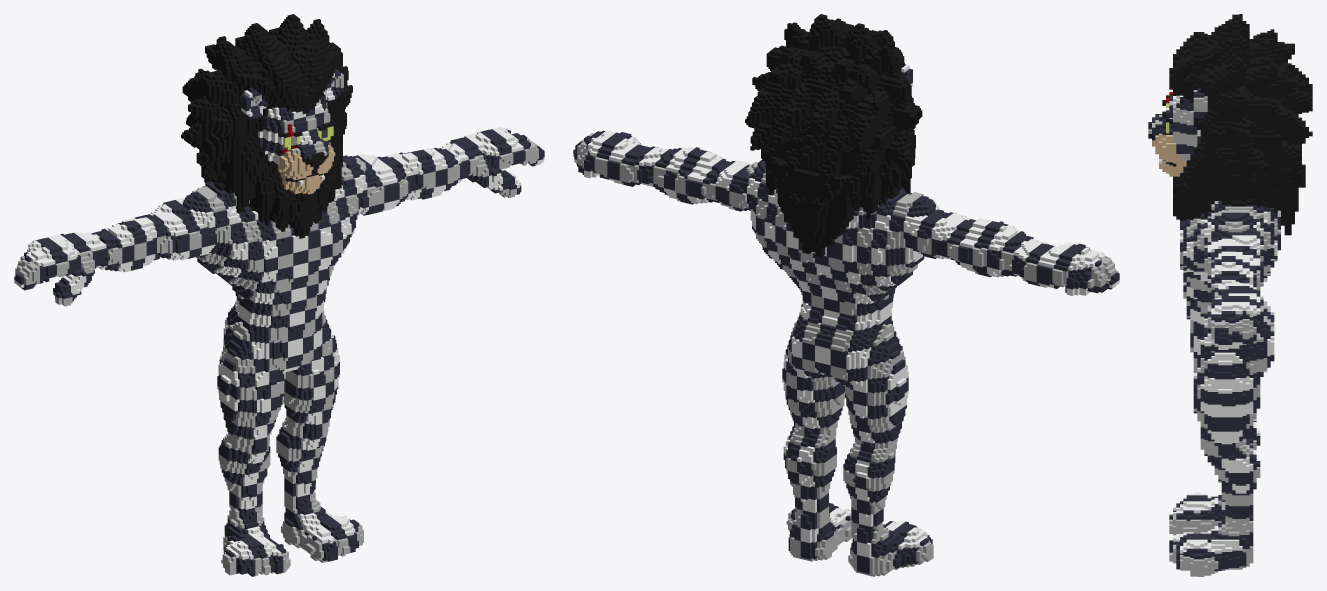
The picture shows the model from 3 angles, left to right: view 1: azimuth 30°, elevation 25°; view 2: azimuth 150°, elevation 25°; view 3: azimuth 270°, elevation 25°; orthographic projection. The views are drawn at different scales.
Parts seen in each view (by area): view 1: standard; view 2: standard; view 3: standard.
Part boxes in pixels (x1,y1,x2,y2): standard: (14,14,544,576); standard: (573,14,1119,576); standard: (1148,14,1312,576).
Bounding box in the file's own units: 17.2 × 16.5 × 4.7.
4 materials, 4 textured.
